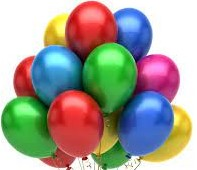Balloon: (82, 43, 139, 111), (47, 90, 102, 157), (1, 96, 56, 158), (119, 91, 173, 154), (32, 44, 83, 104), (66, 1, 116, 54)
